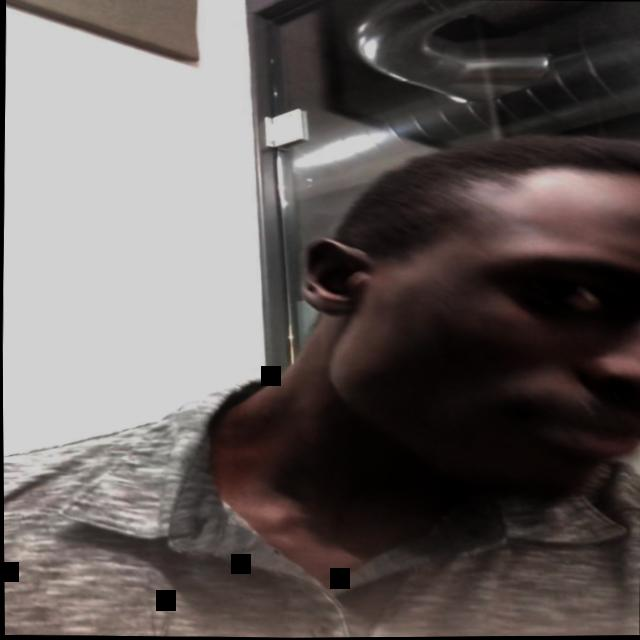NO-Mask: (317, 194, 640, 505)
